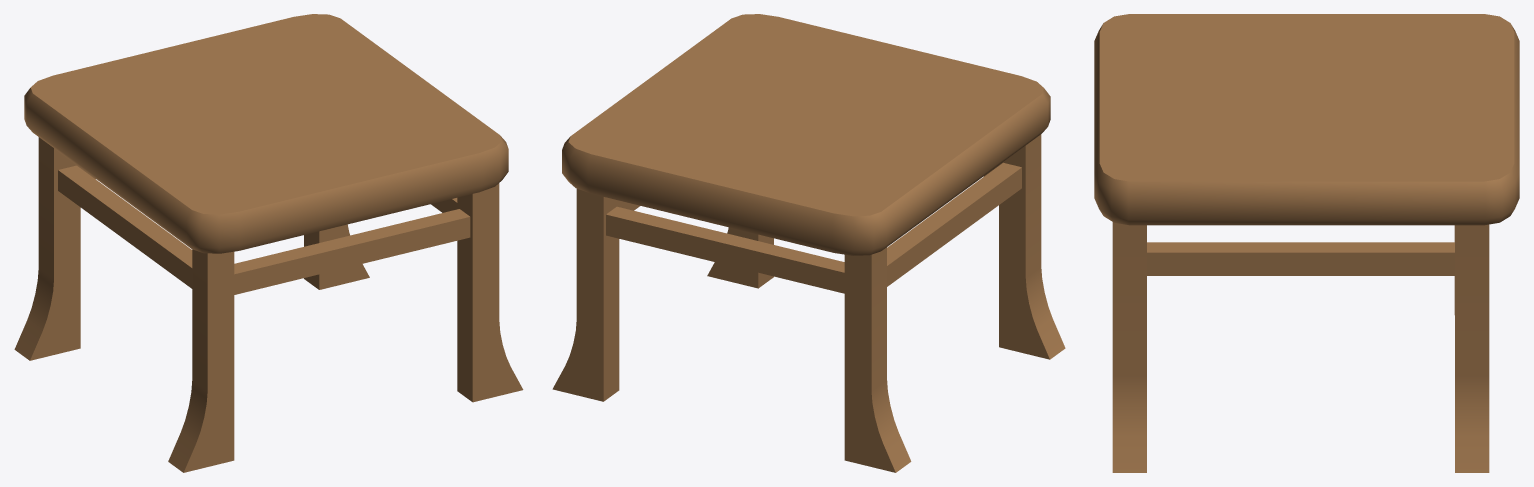
File: Environment_Table.fbx
The picture shows the model from 3 angles, left to right: view 1: azimuth 30°, elevation 25°; view 2: azimuth 150°, elevation 25°; view 3: azimuth 270°, elevation 25°; orthographic projection. The views are drawn at different scales.
Parts seen in each view (by area): view 1: Environment_Table; view 2: Environment_Table; view 3: Environment_Table.
Part boxes in pixels (bbox=[...]): Environment_Table: bbox=[14, 14, 523, 472]; Environment_Table: bbox=[552, 14, 1065, 472]; Environment_Table: bbox=[1094, 14, 1519, 472].
Size of the model in its own units: 218 by 155 by 211.
